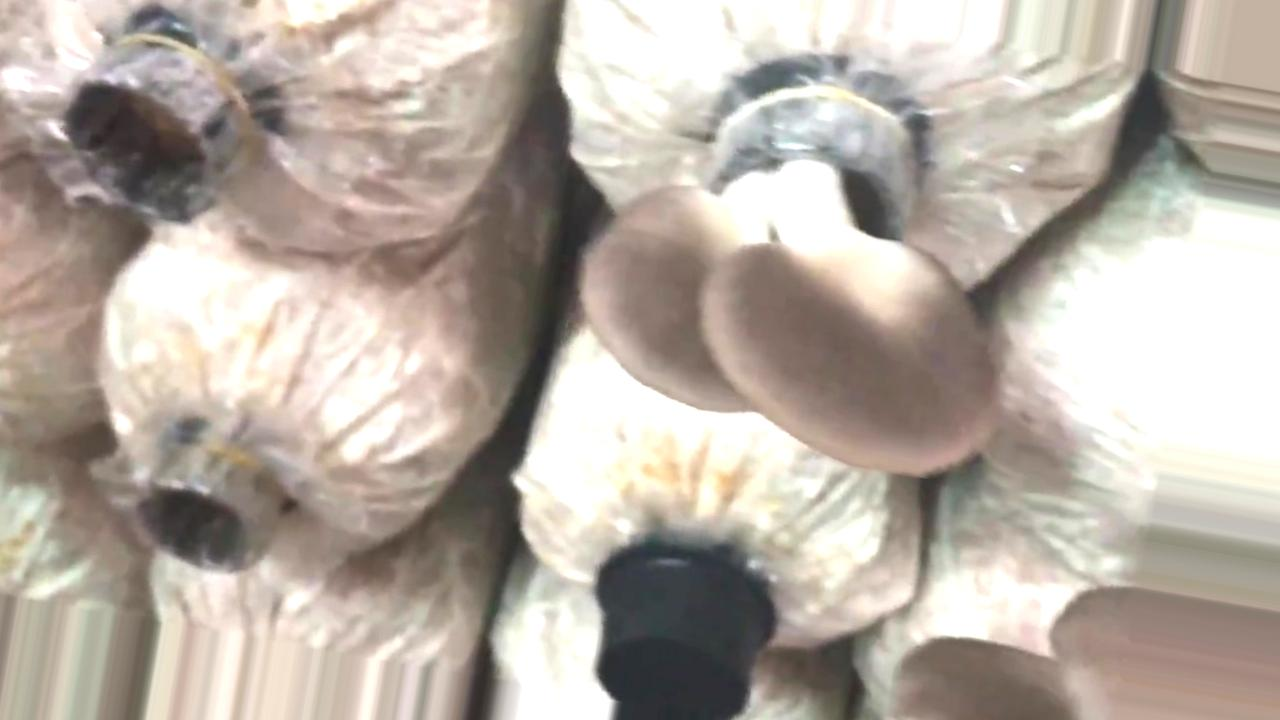nam: (592, 92, 996, 473)
